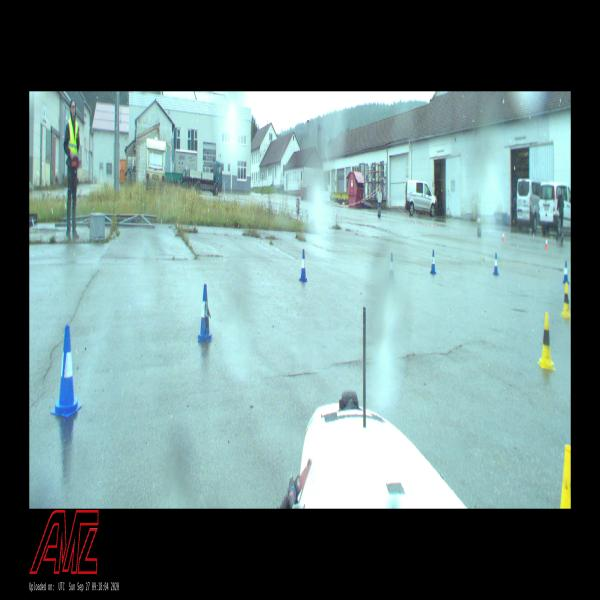blue_cone: (50, 324, 82, 418), (198, 284, 212, 343), (388, 252, 397, 288), (299, 250, 308, 282), (562, 261, 569, 284), (430, 249, 436, 275), (492, 252, 498, 276)
orange_cone: (545, 236, 548, 249), (502, 230, 505, 241)
yellow_cone: (538, 313, 556, 370), (560, 445, 570, 508), (561, 283, 571, 318)
